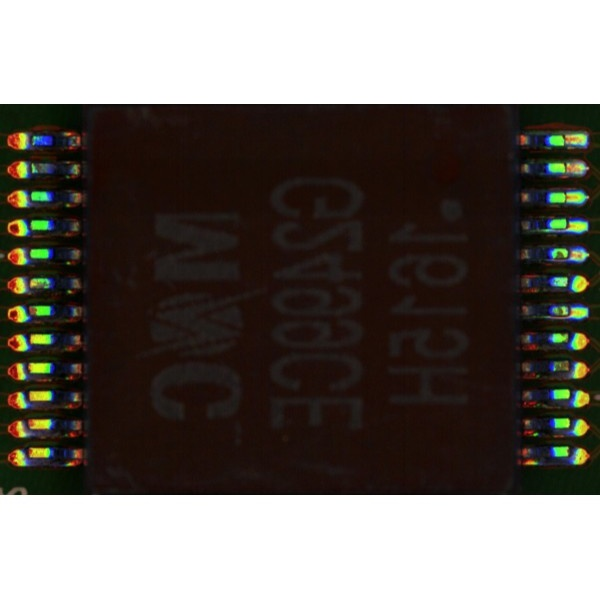Bad_podu: (555, 136, 576, 144), (560, 163, 575, 172), (560, 251, 578, 258), (558, 193, 575, 200), (561, 222, 578, 229)
Bad_qiaojiao: (538, 315, 571, 321), (534, 228, 566, 233)
